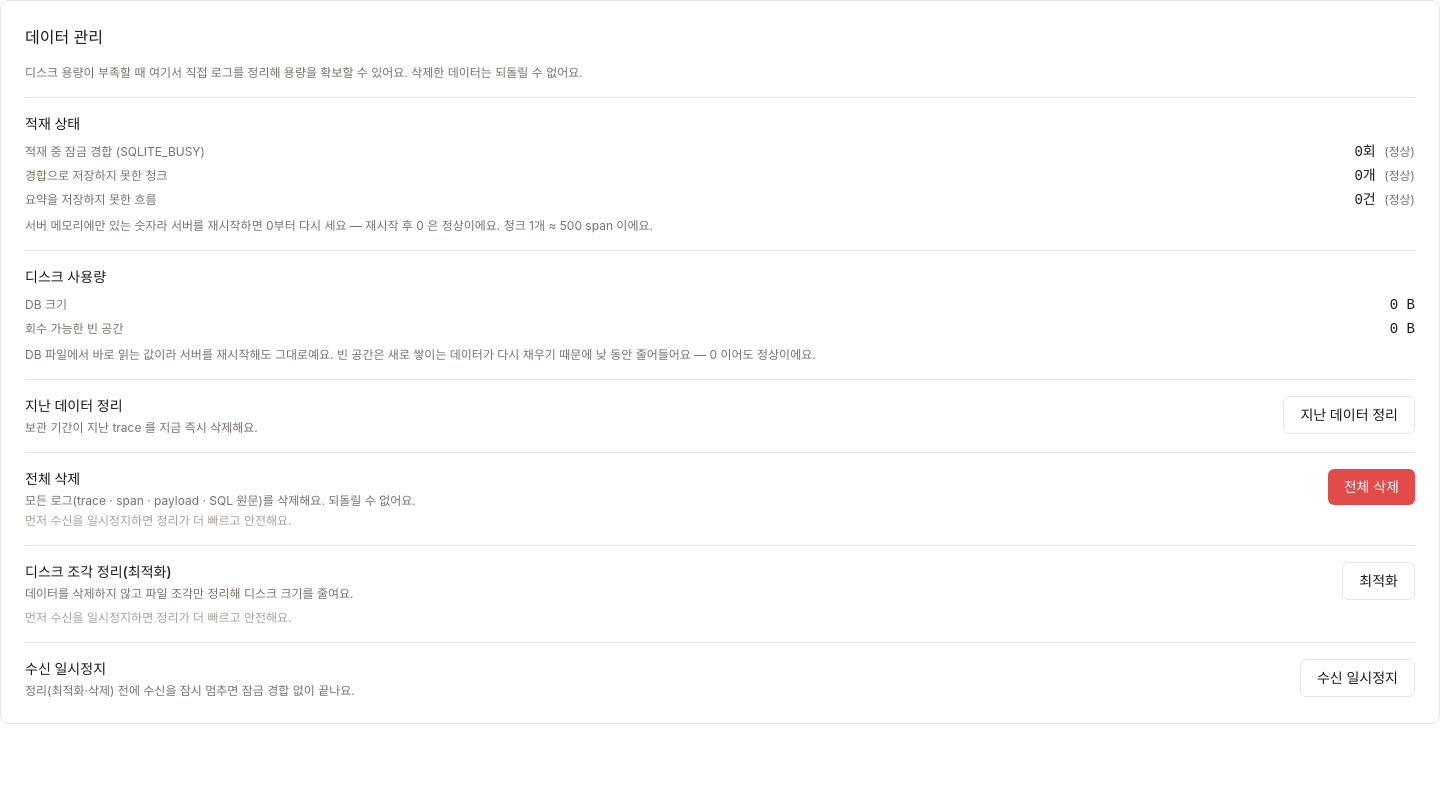
DataManagementSection — 수동 디스크 정리 (cleanup / purge) › showsPurgeModalOnPurgeClick — 전체 삭제 클릭 시 강한 확인 모달 노출
Step 1. Click the button "전체 삭제" → (1371, 487), box [1328,469,1415,505]
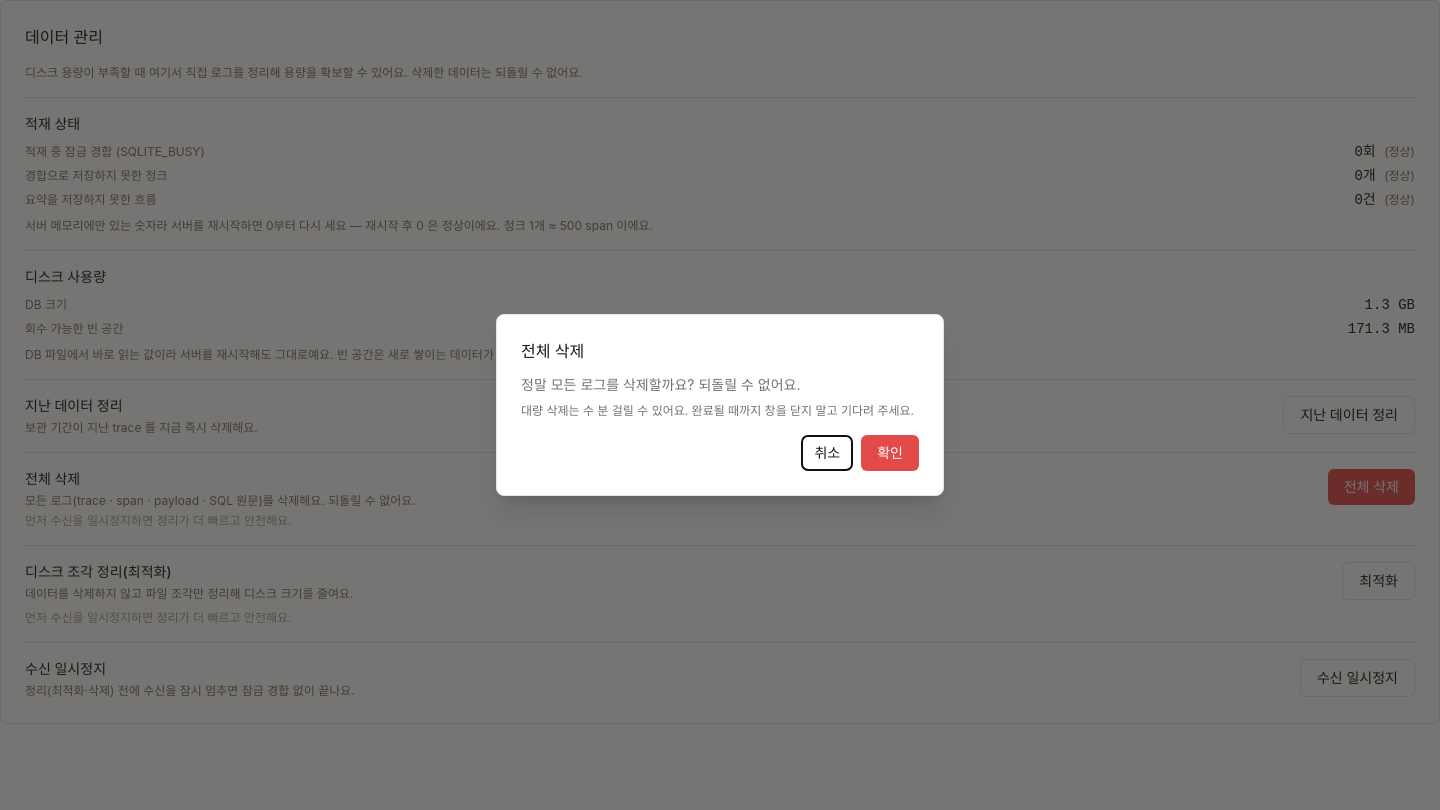
Check: the text "정말 모든 로그를 삭제할까요? 되돌릴 수 없어요." is shown, box [521,376,800,393]
